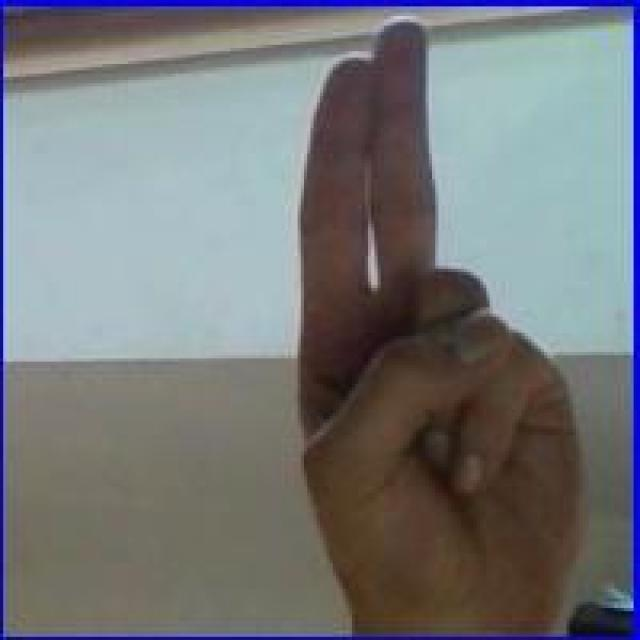U: (285, 13, 592, 598)
